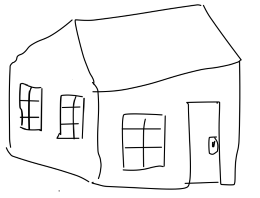big_house: (1, 1, 260, 198)
closed_window: (114, 109, 169, 178), (54, 86, 91, 150), (13, 78, 50, 137)
door: (174, 93, 228, 192)
roof: (8, 6, 247, 95)
wall: (89, 46, 247, 193)
